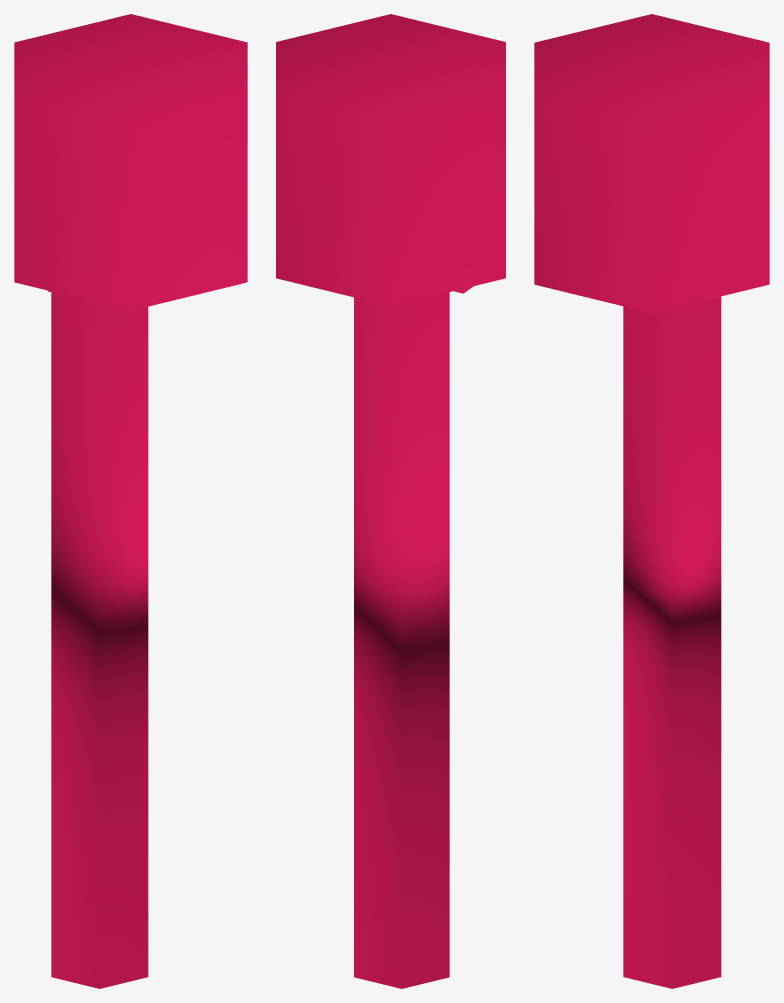
The model's file is ps2_jrpg_holy_staff_icon_mesh.obj.
The picture shows the model from 3 angles, left to right: view 1: azimuth 30°, elevation 25°; view 2: azimuth 150°, elevation 25°; view 3: azimuth 270°, elevation 25°; orthographic projection. The views are drawn at different scales.
Bounding box in the file's own units: 0.48 × 1.76 × 0.4157.
